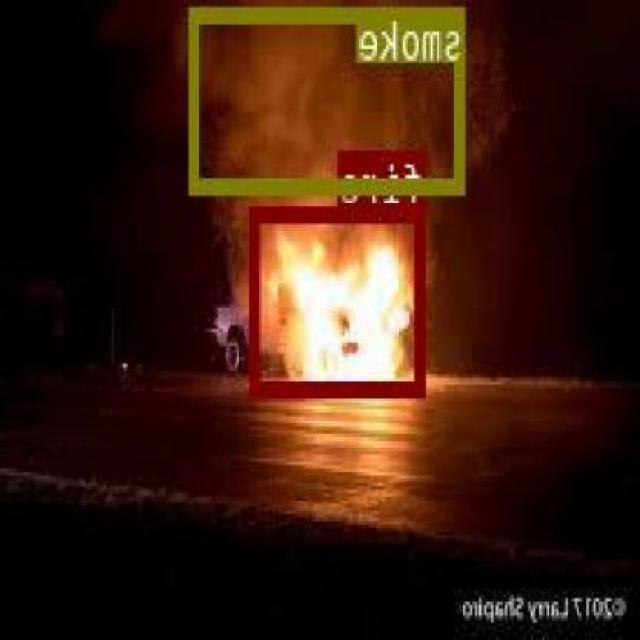Fire: (252, 205, 426, 392)
Smoke: (191, 5, 467, 193)
